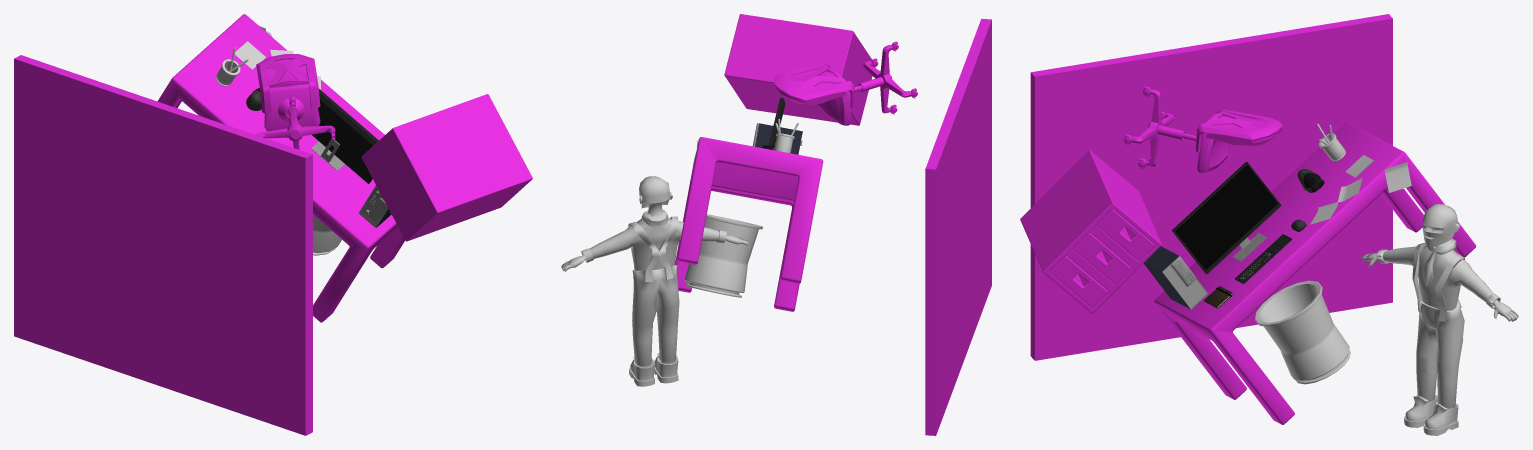
Rendered from SM_BlueStickyNote.fbx_Prop_layout.fbx.
The picture shows the model from 3 angles, left to right: view 1: azimuth 30°, elevation 25°; view 2: azimuth 150°, elevation 25°; view 3: azimuth 270°, elevation 25°; orthographic projection. The views are drawn at different scales.
Visible parts, largest first — view 1: SM_Cubicle.002, SM_Draw.002, SM_Desk.002, SM_Table.002, SM_Monitor.002, SM_Computer.002, TrashBin.002; view 2: SM_Cubicle.002, SM_Desk.002, Sm_OfficeMan.002, SM_Draw.002, SM_Table.002, TrashBin.002, SM_Computer.002; view 3: SM_Cubicle.002, SM_Desk.002, SM_Draw.002, Sm_OfficeMan.002, SM_Monitor.002, TrashBin.002, SM_Table.002, SM_Computer.002, SM_Keyboard.002, WhiteStickyNote.002.
Boxes of the visible parts, bbox=[...] form: SM_Cubicle.002: bbox=[14, 55, 312, 435]; SM_Draw.002: bbox=[361, 94, 532, 241]; SM_Desk.002: bbox=[157, 14, 405, 322]; SM_Table.002: bbox=[256, 54, 335, 149]; SM_Monitor.002: bbox=[311, 88, 378, 183]; SM_Computer.002: bbox=[358, 185, 391, 227]; TrashBin.002: bbox=[313, 215, 341, 255]; SM_Cubicle.002: bbox=[925, 18, 991, 435]; SM_Desk.002: bbox=[675, 137, 823, 311]; Sm_OfficeMan.002: bbox=[561, 176, 748, 386]; SM_Draw.002: bbox=[724, 14, 872, 125]; SM_Table.002: bbox=[774, 41, 917, 125]; TrashBin.002: bbox=[684, 214, 762, 297]; SM_Computer.002: bbox=[752, 123, 802, 154]; SM_Cubicle.002: bbox=[1030, 14, 1392, 360]; SM_Desk.002: bbox=[1154, 122, 1476, 424]; SM_Draw.002: bbox=[1020, 150, 1161, 313]; Sm_OfficeMan.002: bbox=[1360, 204, 1518, 435]; SM_Monitor.002: bbox=[1172, 161, 1281, 274]; TrashBin.002: bbox=[1255, 280, 1350, 384]; SM_Table.002: bbox=[1123, 86, 1282, 172]; SM_Computer.002: bbox=[1143, 246, 1208, 309]; SM_Keyboard.002: bbox=[1235, 234, 1292, 283]; WhiteStickyNote.002: bbox=[1384, 162, 1411, 192].
Size of the model in its own units: 298 by 232 by 360.
